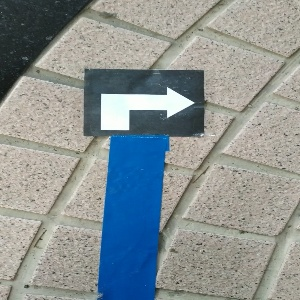right: (84, 67, 204, 137)
